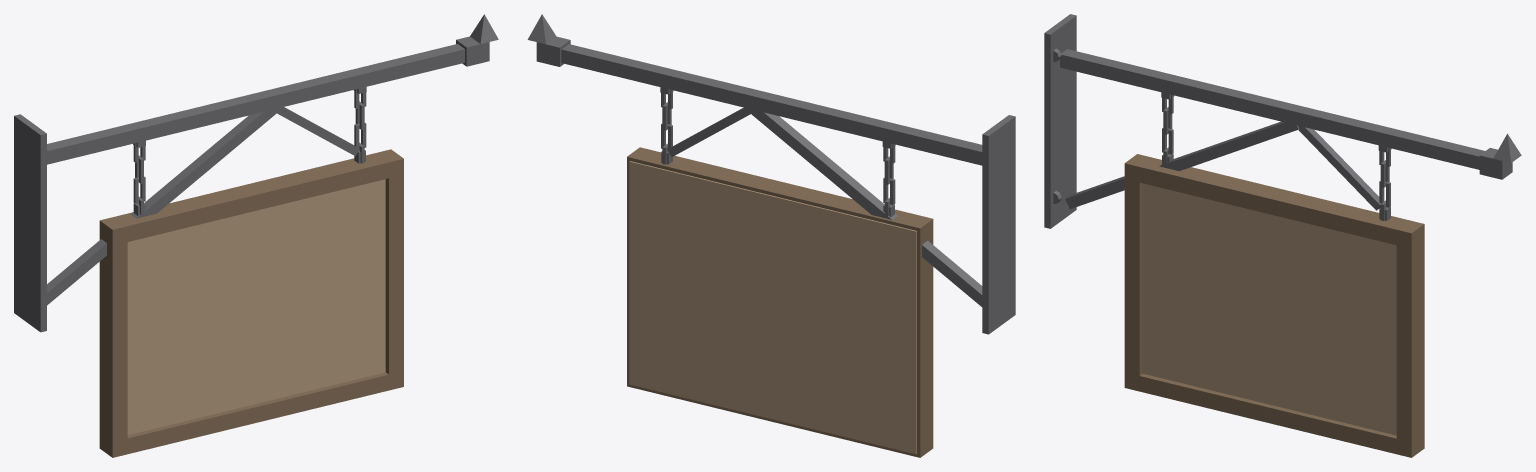
File: hanging_bracket_179c712d.glb
3 renders of one model, left to right at view 1: azimuth 30°, elevation 25°; view 2: azimuth 150°, elevation 25°; view 3: azimuth 330°, elevation 25°, orthographic. The views are drawn at different scales.
Visible parts, largest first — view 1: board, bracket; view 2: board, bracket; view 3: board, bracket.
Boxes of the visible parts, box(x1,y1,x2,y2) form: board: box(99, 149, 403, 457); bracket: box(14, 14, 498, 332); board: box(627, 147, 933, 457); bracket: box(527, 14, 1015, 334); board: box(1124, 154, 1424, 457); bracket: box(1044, 14, 1521, 228).
Size of the model in its own units: 1.01 by 0.717 by 0.1.
